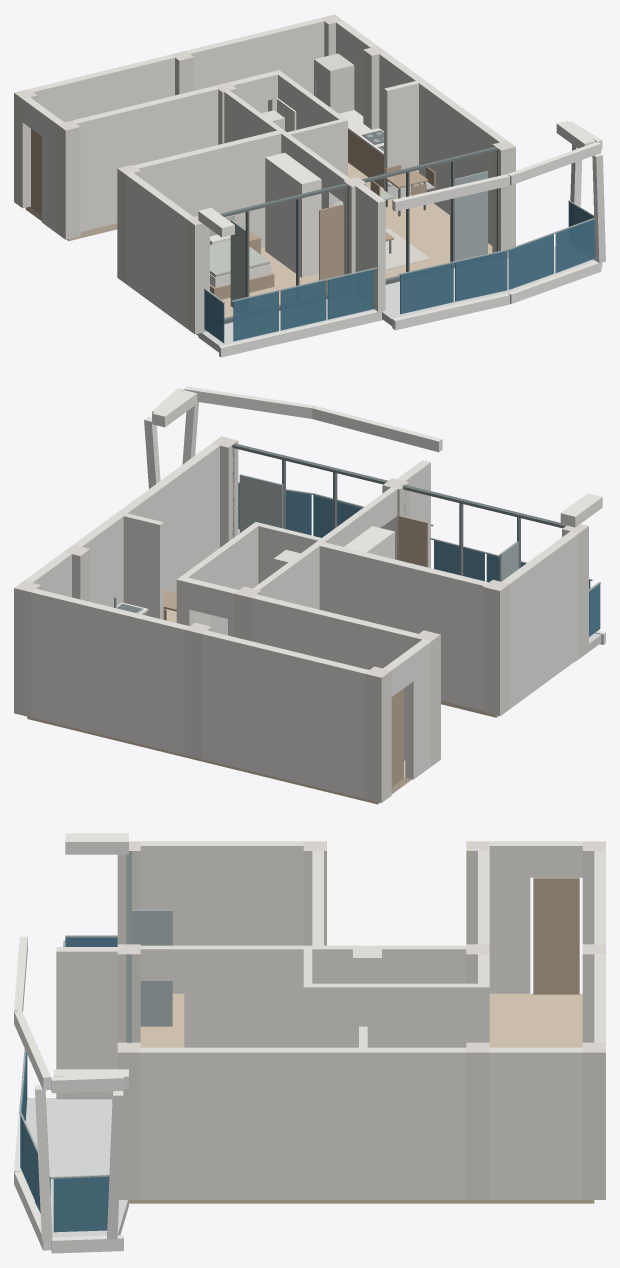
Rendered from apartment.glb.
The picture shows the model from 3 angles, top to bottom: view 1: azimuth 30°, elevation 25°; view 2: azimuth 150°, elevation 25°; view 3: azimuth 270°, elevation 25°; orthographic projection. The views are drawn at different scales.
Parts seen in each view (by area): view 1: Corridor core wall, Bedroom north wall, Living terrace glass (×4), West exterior bedroom, East exterior mid, North exterior kitchen, Bedroom balcony glass (×3), North exterior corridor, Wardrobe closet, Kitchen partition stub, Balcony divider wall, Mid-West Column (+41 smaller); view 2: North exterior corridor, North exterior kitchen, Bedroom north wall, East exterior mid, West exterior bedroom, Corridor core wall, Kitchen partition stub, NW Column, Upper white facade band (×2), Bedroom-NW Column, Bathroom east wall, West corridor stub (+30 smaller); view 3: East exterior mid, West exterior bedroom, East exterior north, Bedroom divider wall, Bathroom east wall, Balcony divider wall, West corridor stub, Living terrace slab, Entrance open door, Corridor floor, Bathroom west wall, Mid-East Column (+29 smaller).
Boxes of the visible parts, x1,y1,x2,y2 form: Corridor core wall: (72,86,218,231); Bedroom north wall: (133,130,281,247); Living terrace glass (×4): (400,219,595,314); West exterior bedroom: (126,173,193,327); East exterior mid: (379,52,506,245); North exterior kitchen: (186,18,324,113); Bedroom balcony glass (×3): (233,269,373,341); North exterior corridor: (29,54,174,122); Wardrobe closet: (265,152,321,277); Kitchen partition stub: (384,81,418,199); Balcony divider wall: (355,184,385,311); Mid-West Column: (57,120,80,239); North exterior corridor: (202,630,368,798); North exterior kitchen: (31,588,189,754); Bedroom north wall: (319,542,488,710); East exterior mid: (73,443,219,609); West exterior bedroom: (502,531,578,708); Corridor core wall: (251,594,418,760); Kitchen partition stub: (123,513,163,619); NW Column: (364,666,391,802); Upper white facade band (×2): (184,386,442,452); Bedroom-NW Column: (483,580,509,716); Bathroom east wall: (176,522,258,635); West corridor stub: (405,639,430,779); East exterior mid: (140,1047,466,1199); West exterior bedroom: (140,841,303,993); East exterior north: (489,1047,582,1199); Bedroom divider wall: (184,945,312,1047); Bathroom east wall: (303,983,489,1047); Balcony divider wall: (56,947,117,1099); West corridor stub: (489,841,530,993); Living terrace slab: (26,1098,128,1237); Entrance open door: (533,877,579,994); Corridor floor: (489,993,582,1047); Bathroom west wall: (312,945,466,983); Mid-East Column: (466,1042,489,1199).
Bounding box in the file's own units: 10.35 × 3.28 × 10.18.
